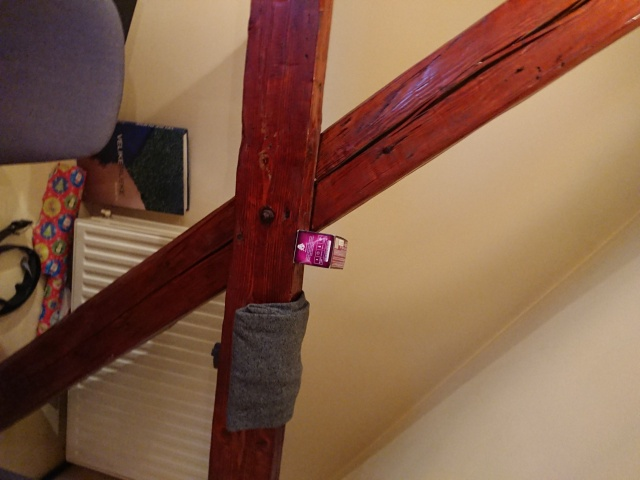Franck Black Currant Tea 60g: (290, 227, 350, 271)
